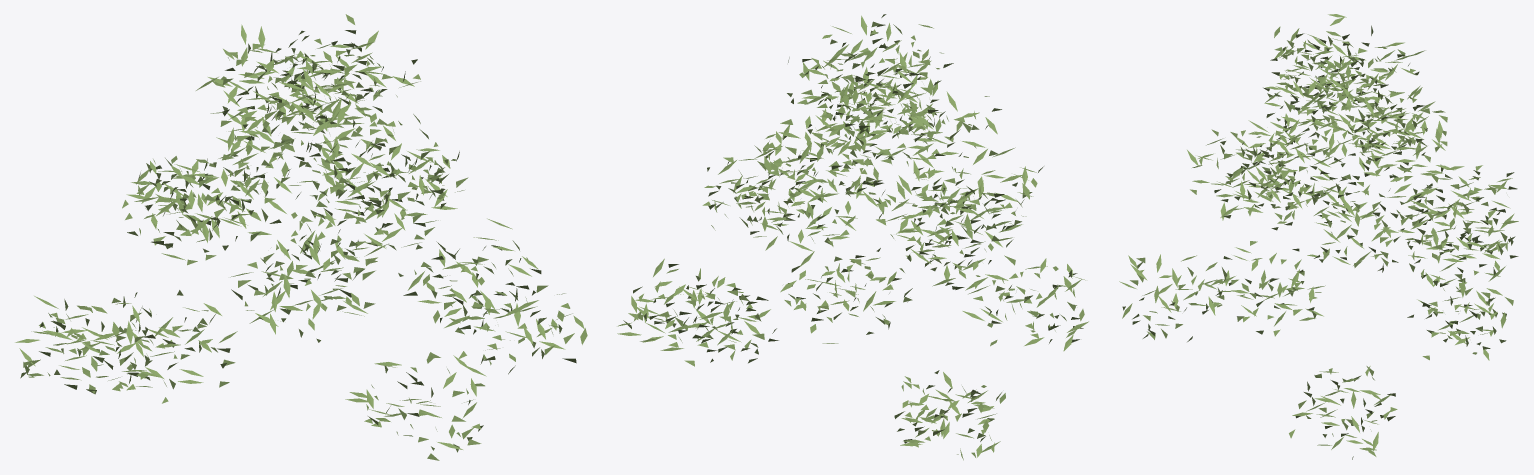
File: teaching3-vegetation-07-medium.glb
3 renders of one model, left to right at view 1: azimuth 30°, elevation 25°; view 2: azimuth 150°, elevation 25°; view 3: azimuth 270°, elevation 25°, orthographic. The views are drawn at different scales.
Visible parts, largest first — view 1: vegetation cedar leaves.001; view 2: vegetation cedar leaves.001; view 3: vegetation cedar leaves.001.
Boxes of the visible parts, <box> form: vegetation cedar leaves.001: <box>15,14,587,460</box>; vegetation cedar leaves.001: <box>617,14,1088,460</box>; vegetation cedar leaves.001: <box>1119,14,1518,459</box>.
Size of the model in its own units: 11.93 by 8.77 by 9.91.
